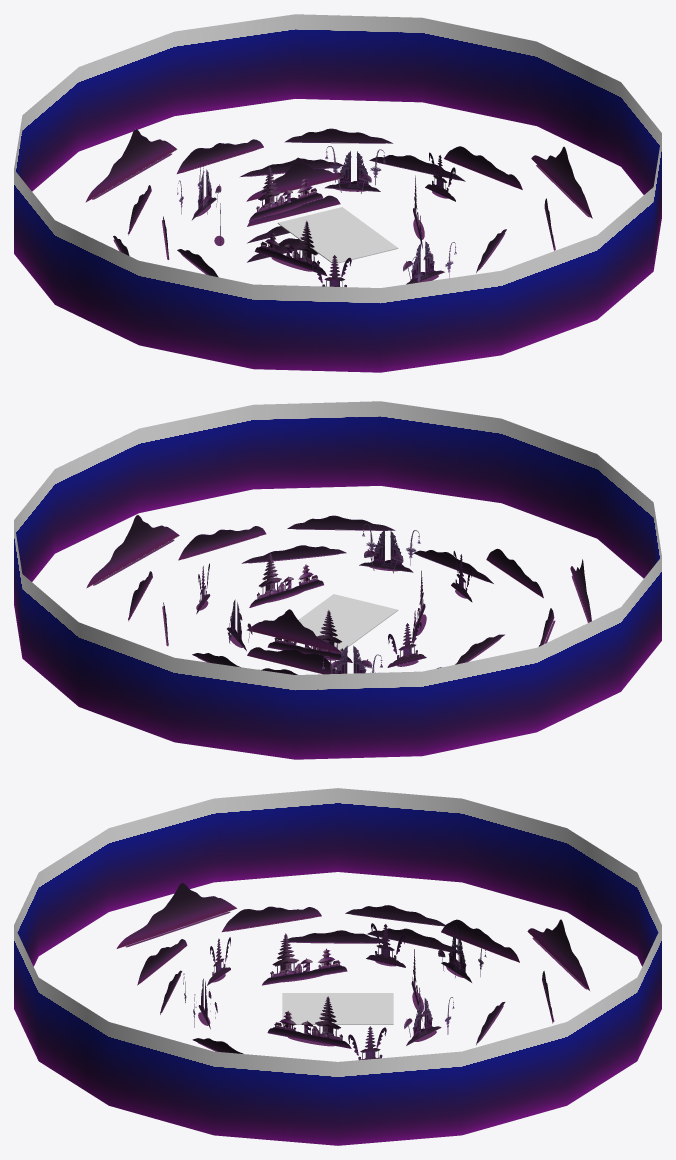
File: elemen-bali-top.fbx
The picture shows the model from 3 angles, top to bottom: view 1: azimuth 30°, elevation 25°; view 2: azimuth 150°, elevation 25°; view 3: azimuth 270°, elevation 25°; orthographic projection.
Visible parts, largest first — view 1: ring_glow, guide, gunung, gunung_2_2, pure_A_2, gunung_2, pure_A_3, gunung_3_2, gunung_1, gunung_5_2, gunung_6, gapura_2 (+3 smaller); view 2: ring_glow, gunung, guide, gunung_2, pure_A, gunung_3, pure_A_2, gunung_5, gunung_4, gunung_1_3, gapura, gunung_6_3 (+1 smaller); view 3: ring_glow, guide, gunung_2_3, pure_A_3, pure_A, gunung_3_3, gunung_2_2, gunung_1_2, gunung_5_3, gunung_4_3, gunung_6_2, gunung_1_3 (+3 smaller).
Part boxes in pixels (x1,y1,x2,y2): ring_glow: (14,14,661,372); guide: (277,207,398,263); gunung: (246,157,340,262); gunung_2_2: (85,129,177,202); pure_A_2: (249,166,322,221); gunung_2: (531,146,592,218); pure_A_3: (254,220,326,275); gunung_3_2: (177,139,263,173); gunung_1: (444,146,522,189); gunung_5_2: (284,128,393,143); gunung_6: (369,155,465,181); gapura_2: (324,151,380,191); ring_glow: (14,401,661,759); gunung: (246,609,340,674); guide: (298,594,398,651); gunung_2: (86,514,179,588); pure_A: (249,553,323,607); gunung_3: (178,526,266,560); pure_A_2: (267,610,352,662); gunung_5: (287,515,395,530); gunung_4: (241,545,346,563); gunung_1_3: (486,548,543,598); gapura: (359,529,413,572); gunung_6_3: (413,550,493,583); ring_glow: (14,788,661,1145); guide: (282,993,393,1024); gunung_2_3: (116,882,236,948); pure_A_3: (262,933,347,985); pure_A: (267,996,351,1048); gunung_3_3: (222,906,321,932); gunung_2_2: (527,919,589,990); gunung_1_2: (441,919,519,962); gunung_5_3: (345,905,445,926); gunung_4_3: (280,930,383,942); gunung_6_2: (367,928,459,953); gunung_1_3: (137,939,187,985).
Size of what is drawn, in the model's own units: 3500 by 800 by 3500.
3 materials, 3 textured.
